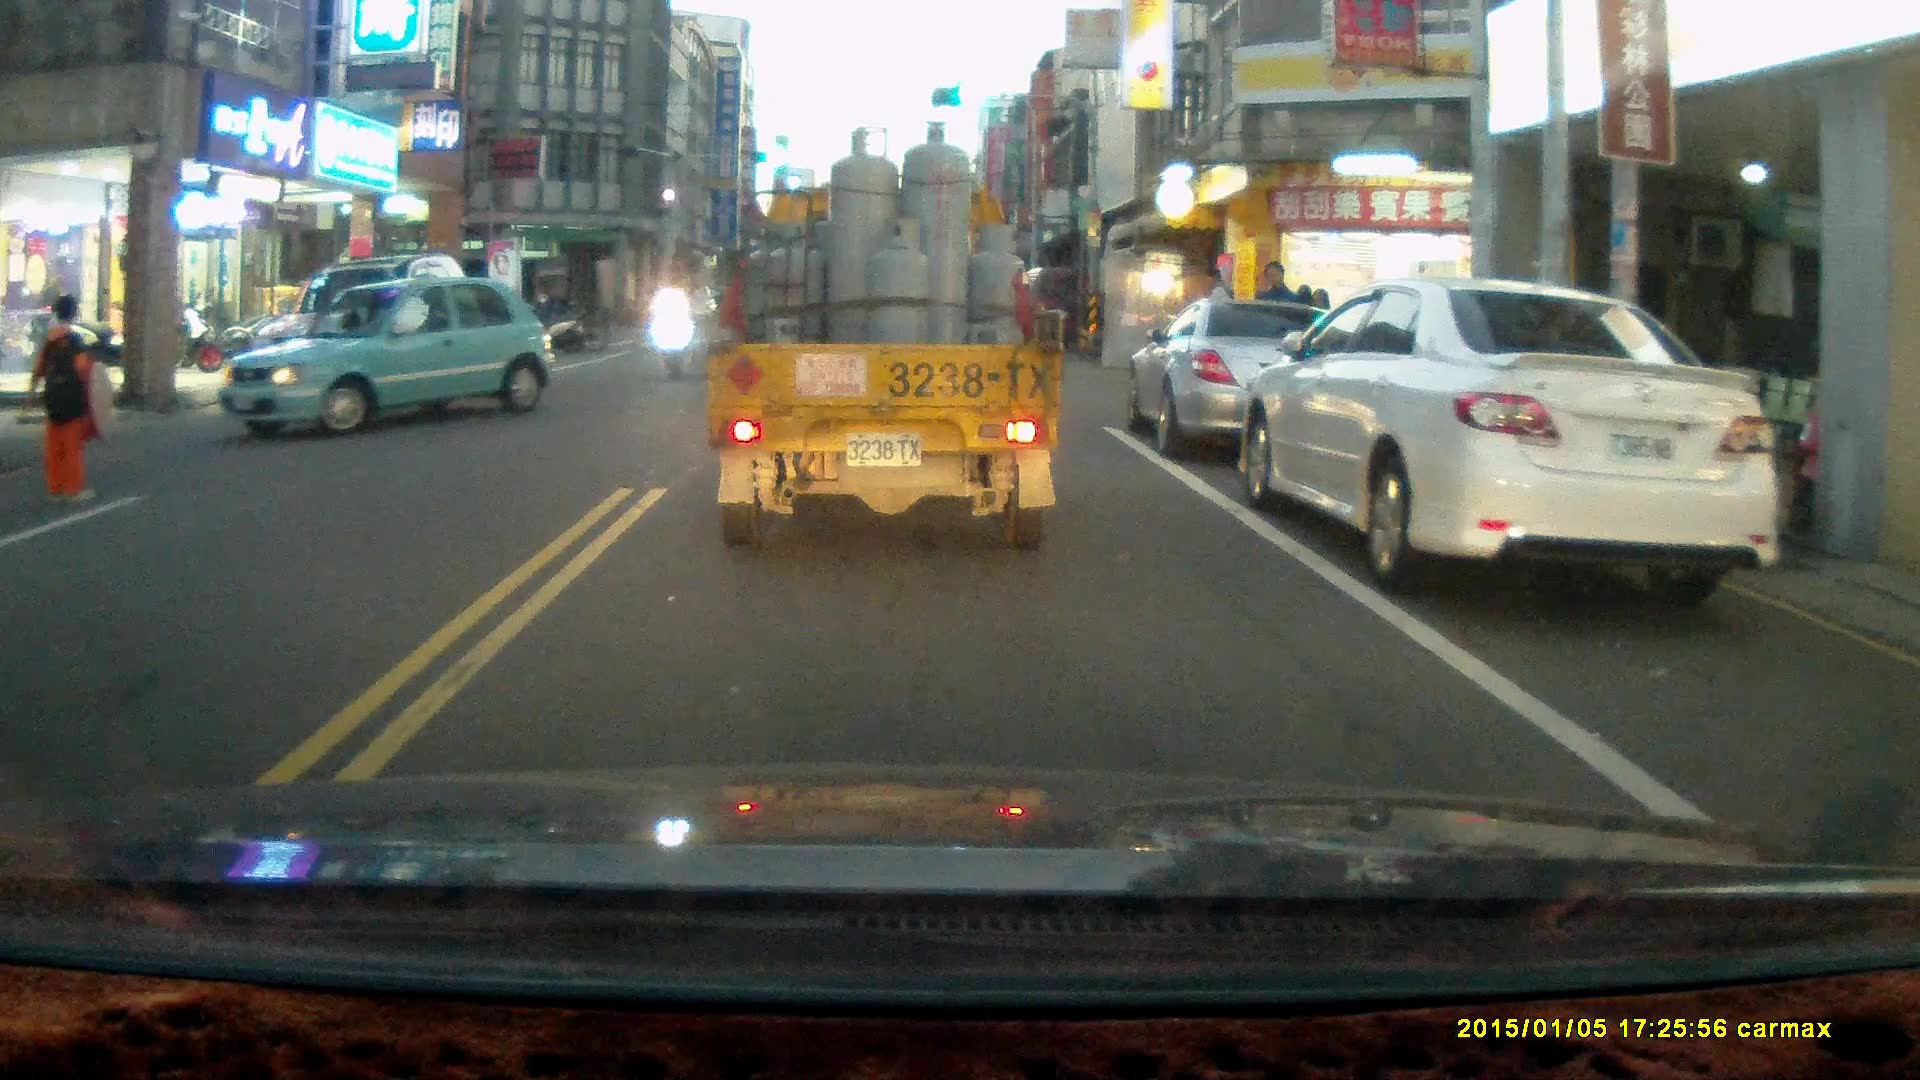pedestrian: (23, 292, 114, 506)
rider: (656, 277, 690, 380)
vehicle: (1241, 281, 1788, 607), (704, 124, 1063, 553), (225, 279, 548, 440), (1133, 297, 1386, 463)
